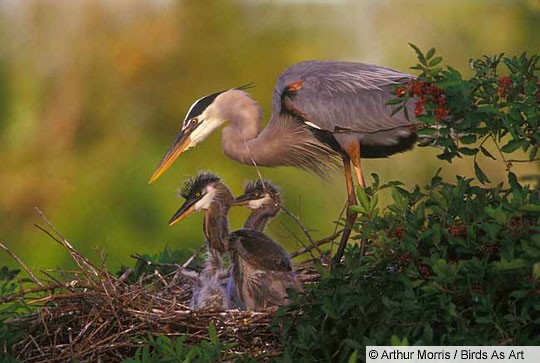heron: (145, 56, 479, 190)
